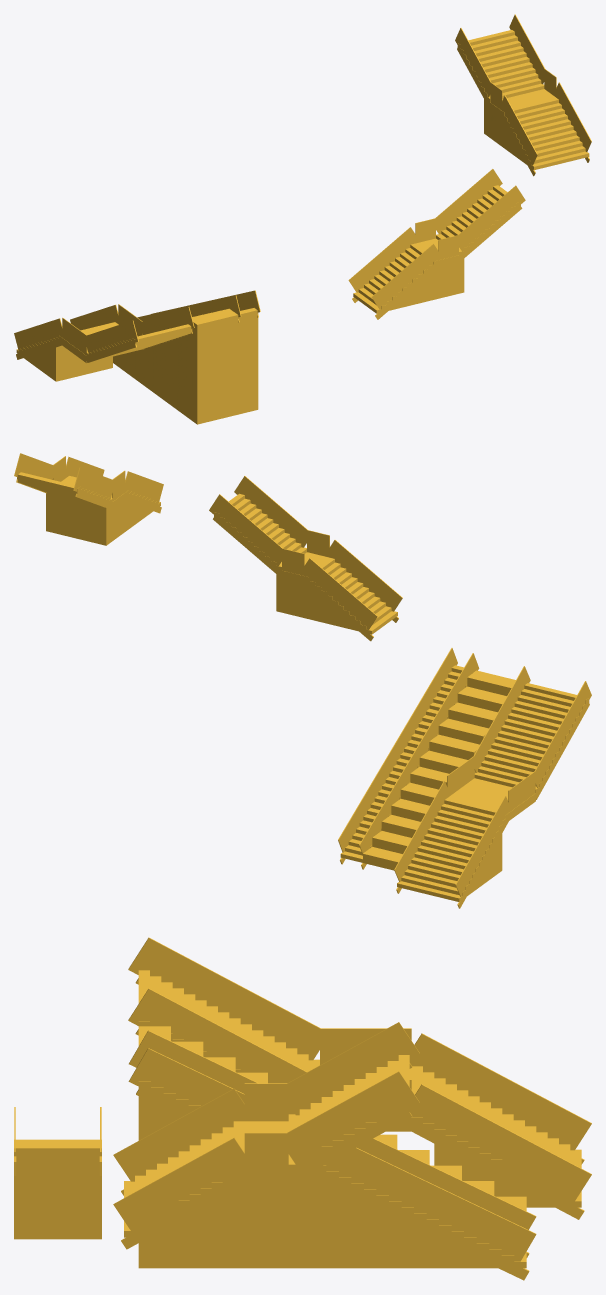
File: SM_Bygg_Helgasetr_Trapper.fbx
3 views of the same model, one above another, from view 1: azimuth 30°, elevation 25°; view 2: azimuth 150°, elevation 25°; view 3: azimuth 270°, elevation 25° (orthographic). The views are drawn at different scales.
Parts seen in each view (by area): view 1: SM_Bygg_Helgasetr_Trapper; view 2: SM_Bygg_Helgasetr_Trapper; view 3: SM_Bygg_Helgasetr_Trapper.
Part boxes in pixels (left/top/right/bottom): SM_Bygg_Helgasetr_Trapper: left=14, top=14, right=591, bottom=424; SM_Bygg_Helgasetr_Trapper: left=14, top=453, right=591, bottom=908; SM_Bygg_Helgasetr_Trapper: left=14, top=937, right=591, bottom=1280.
Size of the model in its own units: 15.78 by 26.5 by 15.26.
